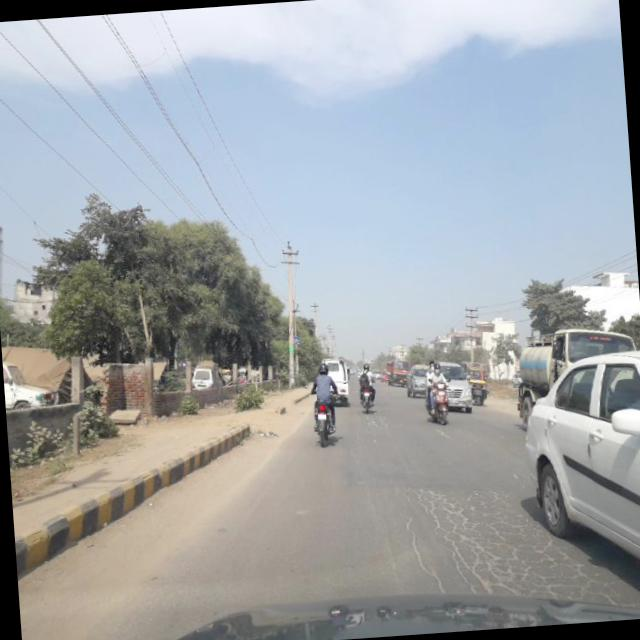crack: (403, 476, 533, 556), (449, 542, 602, 606)
pothole: (401, 499, 448, 598)
